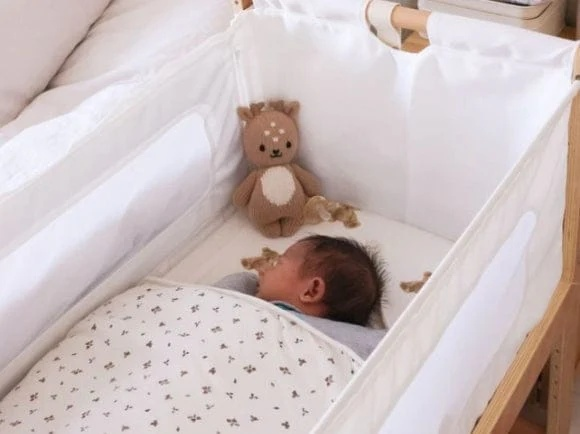baby: (215, 235, 385, 346)
crib: (0, 0, 579, 432)
